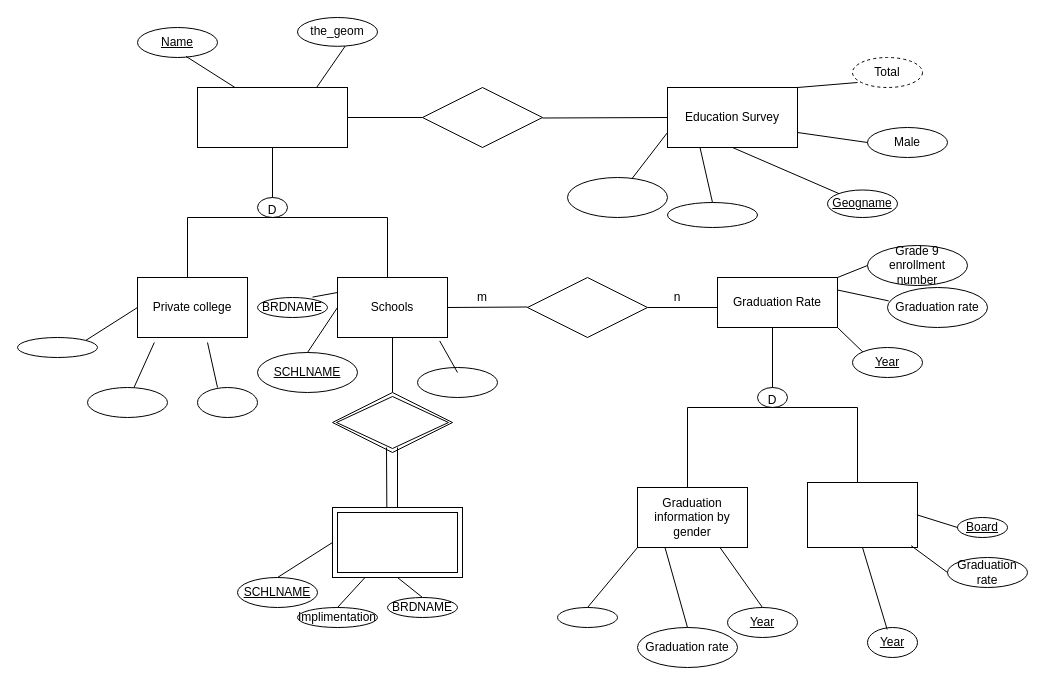
Image size: 1045x685. Some labels were removed from this diagram. The centre of each missing label's shape, as x and y in pixels:
"collegename" goes at point (127, 402).
"ComID" goes at point (617, 197).
"Contact" goes at point (57, 347).
"Discovery opportunities schools" goes at point (397, 542).
"Educational Institutions" goes at point (272, 117).
"Female" goes at point (712, 215).
"Gender" goes at point (587, 617).
"Graduation information by board" goes at point (862, 515).
"Has" goes at point (587, 307).
"Phone" goes at point (457, 382).
"program" goes at point (227, 402).
"Provide DO" goes at point (392, 422).
"Provides" goes at point (482, 117).
